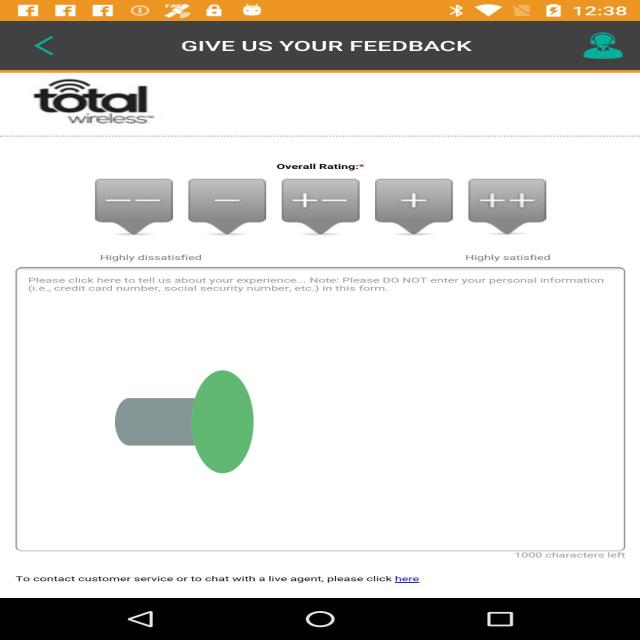social proof: (115, 307, 254, 537)
